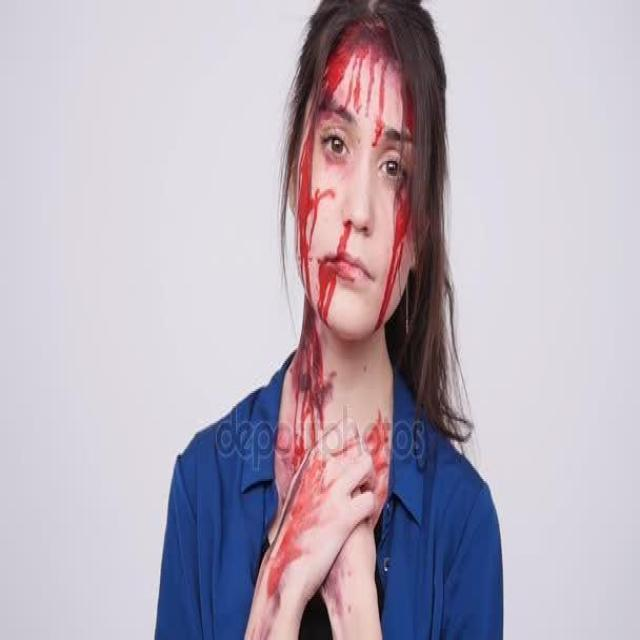flood: (286, 18, 418, 432)
